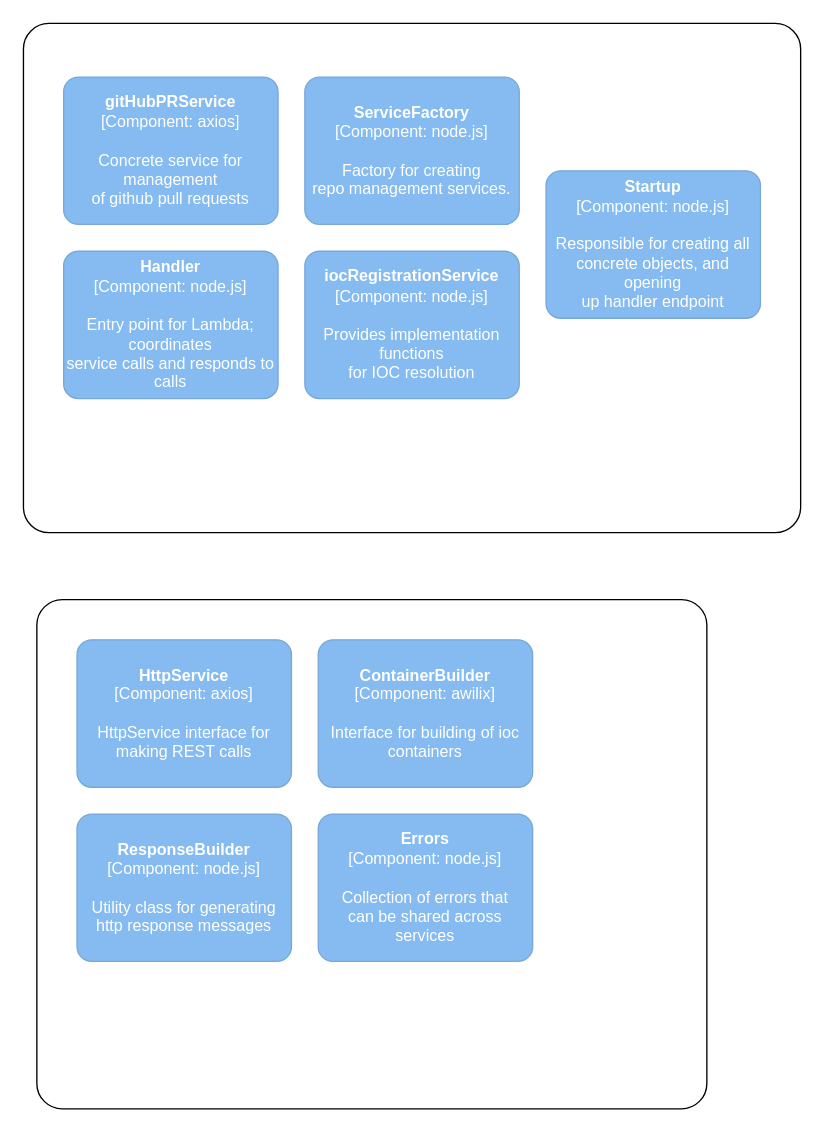
The diagram is 824 pixels wide and 1132 high, and some of its shapes have lost their labels. Each missing label, with the box of its shape:
Common Library [applicationAndVersion]: (36, 598, 707, 1109)
pull-requests Lambda [applicationAndVersion]: (22, 22, 801, 533)
